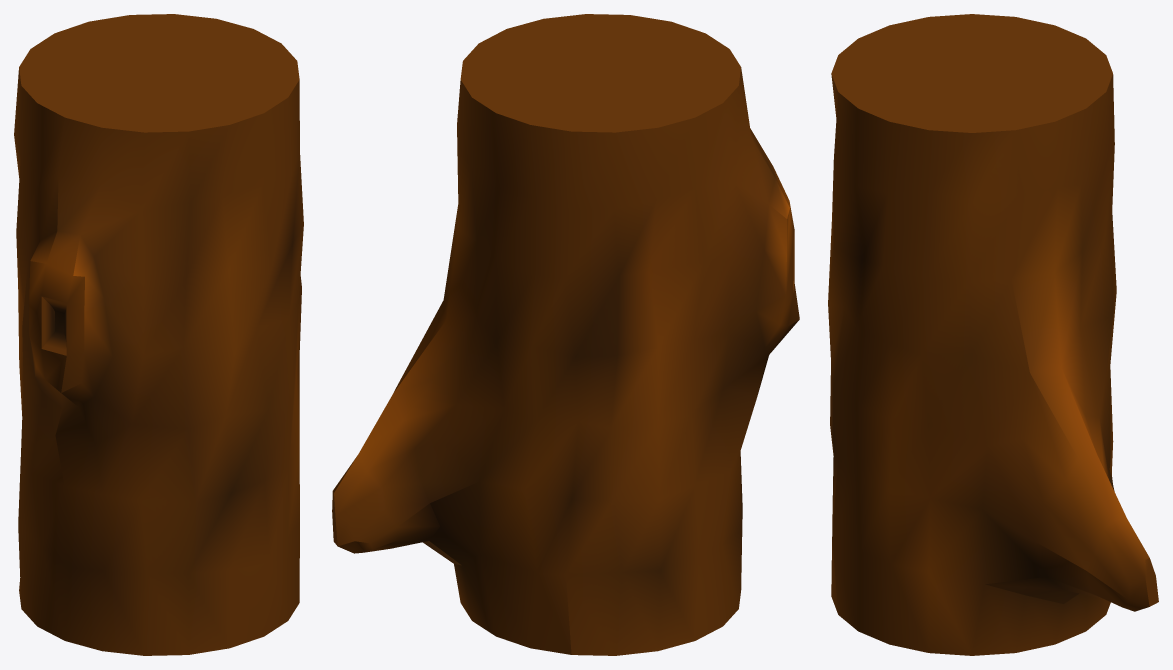
Rendered from TreeMiddle3.fbx.
3 views of the same model, side by side, from view 1: azimuth 30°, elevation 25°; view 2: azimuth 150°, elevation 25°; view 3: azimuth 270°, elevation 25° (orthographic).
Parts seen in each view (by area): view 1: TreeMiddle3; view 2: TreeMiddle3; view 3: TreeMiddle3.
Part boxes in pixels (x1=…): TreeMiddle3: x1=14, y1=14, x2=303, y2=655; TreeMiddle3: x1=332, y1=14, x2=799, y2=655; TreeMiddle3: x1=828, y1=14, x2=1158, y2=655.
Bounding box in the file's own units: 260 × 383 × 219.
